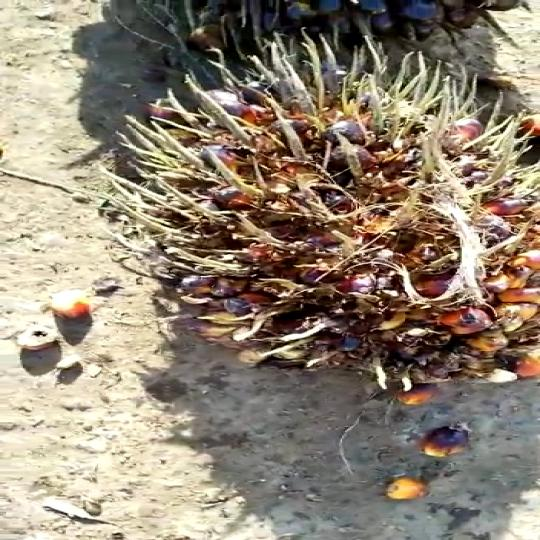terlalu masak: (81, 29, 540, 393)
